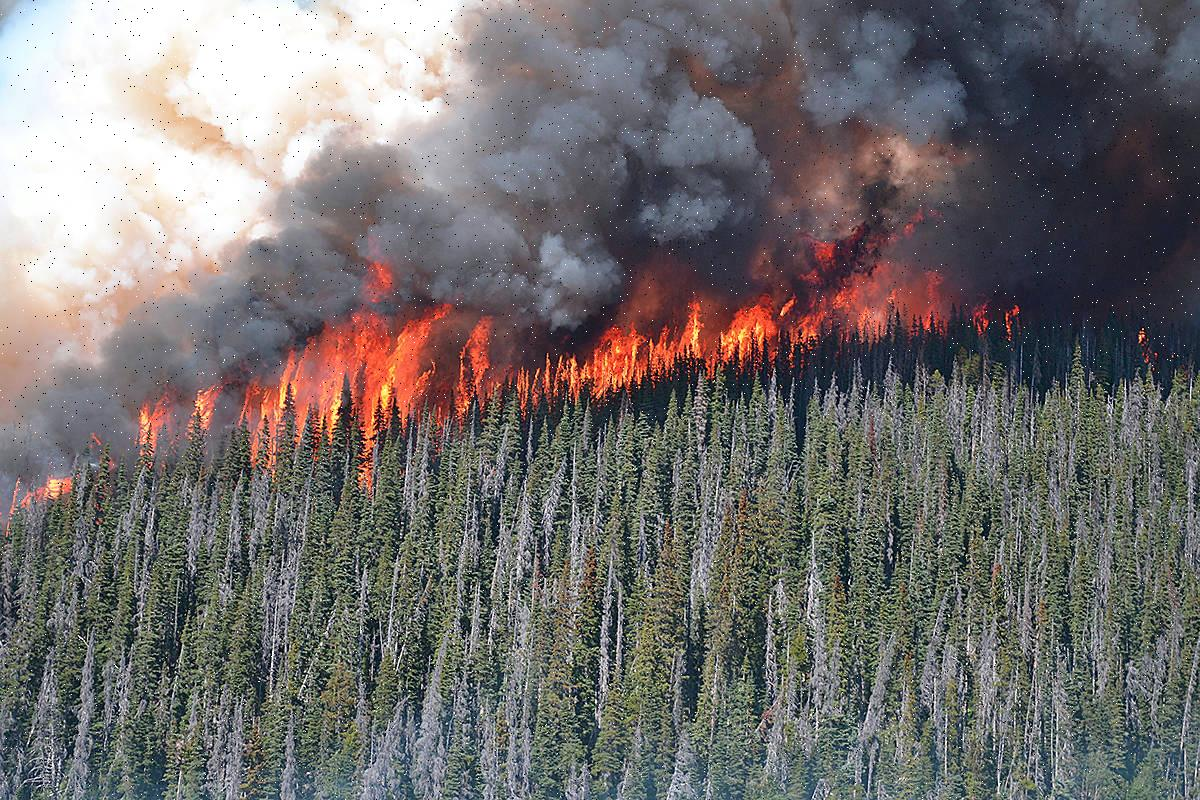fire: (107, 226, 1084, 495)
